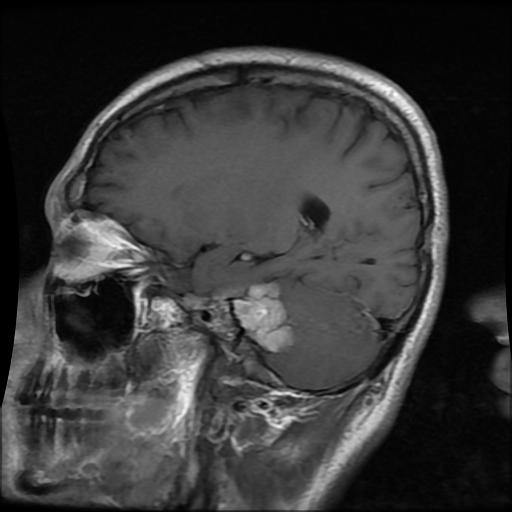Menigiomia_tumour: (232, 279, 293, 349)
